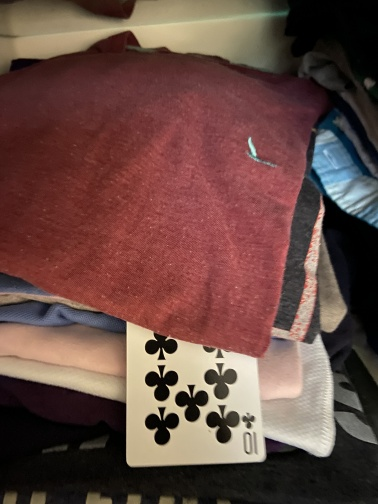ten: (123, 268, 268, 470)
